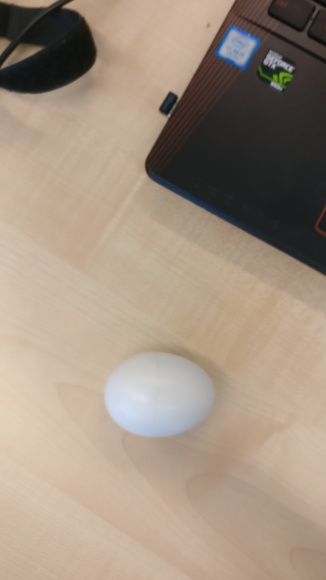egg: (103, 349, 216, 438)
